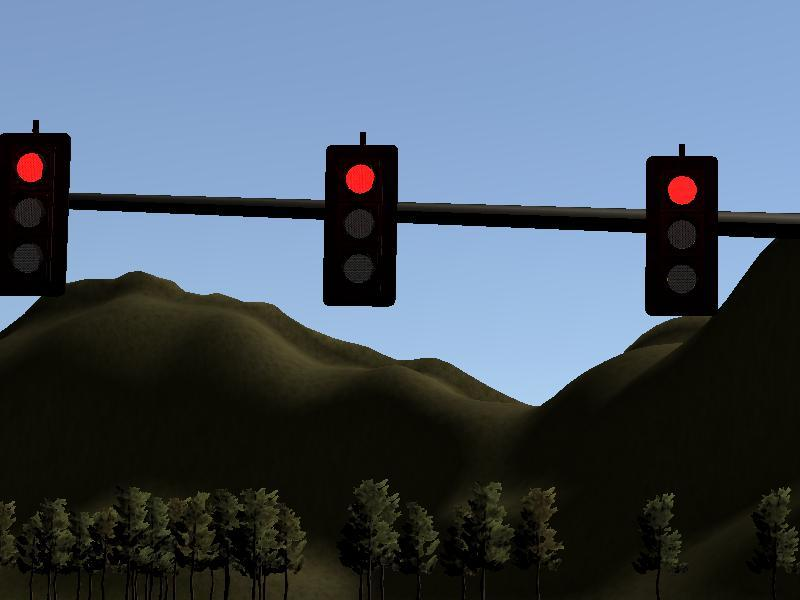Red: (323, 145, 396, 308), (645, 156, 718, 316), (1, 133, 71, 295)
